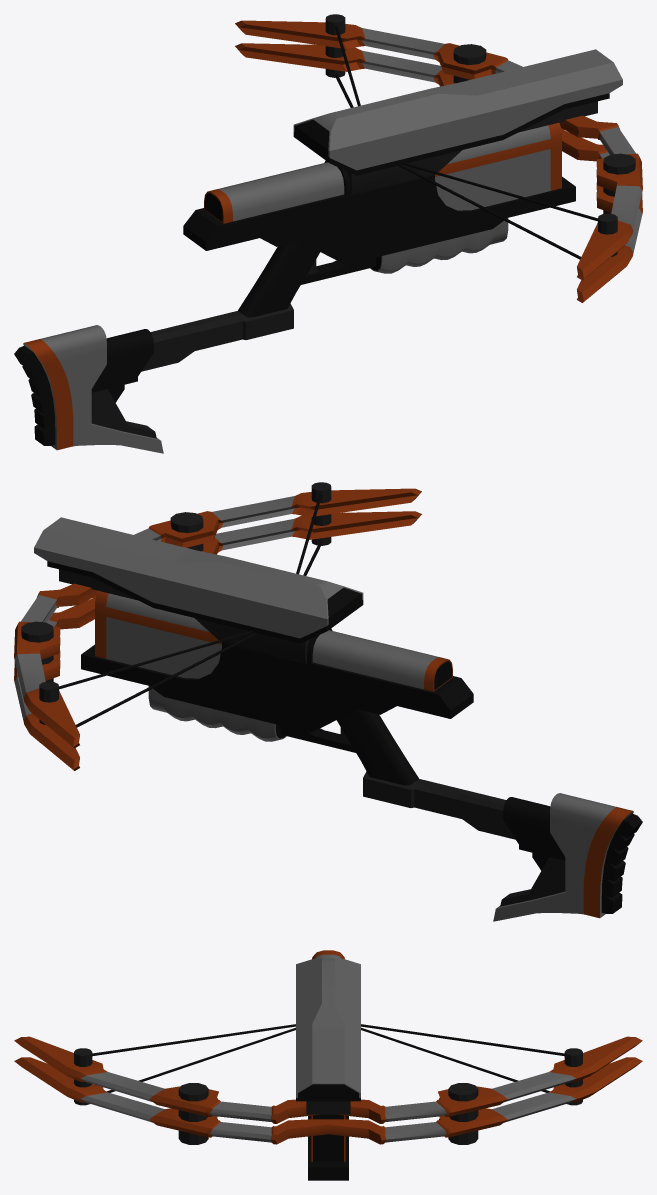
Rendered from Crossbow_1.obj.
3 renders of one model, top to bottom at view 1: azimuth 30°, elevation 25°; view 2: azimuth 150°, elevation 25°; view 3: azimuth 270°, elevation 25°, orthographic. The views are drawn at different scales.
Visible parts, largest first — view 1: Crossbow_1_Cube.114; view 2: Crossbow_1_Cube.114; view 3: Crossbow_1_Cube.114.
Part boxes in pixels (x1=…): Crossbow_1_Cube.114: x1=14, y1=14, x2=642, y2=453; Crossbow_1_Cube.114: x1=14, y1=482, x2=642, y2=921; Crossbow_1_Cube.114: x1=14, y1=950, x2=642, y2=1180.
Size of the model in its own units: 1.86 by 0.8812 by 1.92.
